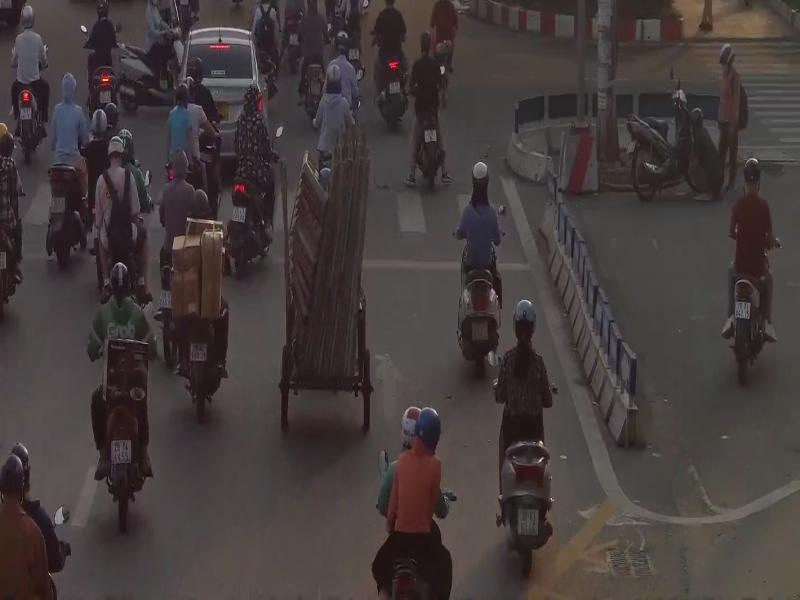helmet: (0, 450, 26, 500), (415, 406, 443, 444), (515, 299, 536, 335), (403, 406, 422, 444), (10, 440, 32, 466), (744, 156, 762, 186), (112, 262, 129, 290), (327, 64, 343, 92), (472, 160, 488, 185), (108, 135, 124, 160), (120, 129, 133, 159), (92, 109, 106, 135), (191, 189, 208, 210), (106, 102, 119, 128), (2, 132, 16, 156), (722, 42, 733, 67), (21, 3, 34, 24), (176, 83, 188, 103), (419, 30, 431, 48)
license_plate: (112, 438, 133, 464), (190, 340, 208, 360), (233, 205, 246, 222), (52, 198, 66, 213), (20, 108, 32, 120), (425, 130, 437, 142), (101, 90, 111, 103)
motorcyclist: (92, 256, 160, 523), (371, 406, 455, 600), (497, 296, 552, 590), (173, 187, 238, 426), (731, 149, 786, 390), (452, 156, 504, 383), (0, 444, 71, 600), (233, 85, 285, 281), (45, 67, 90, 274), (409, 32, 449, 198), (13, 5, 50, 164), (0, 123, 25, 319)
